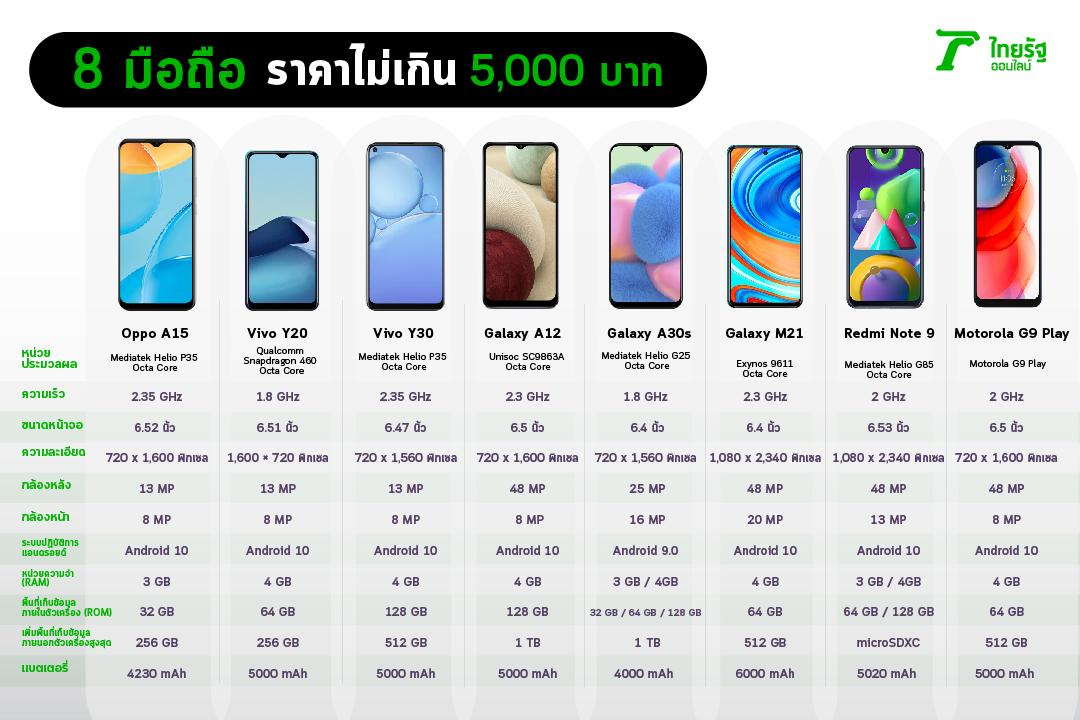phone: (963, 132, 1053, 315), (840, 131, 930, 314), (720, 132, 810, 315), (603, 133, 693, 316), (477, 129, 567, 312), (362, 132, 452, 315), (235, 134, 325, 317), (111, 132, 201, 315)
